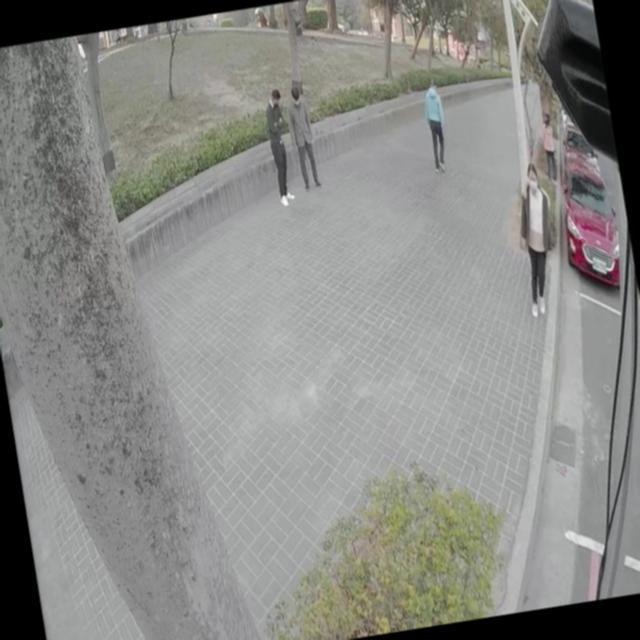person: (507, 158, 568, 320), (261, 86, 297, 204), (284, 84, 319, 190), (416, 78, 452, 175), (536, 113, 560, 181)
